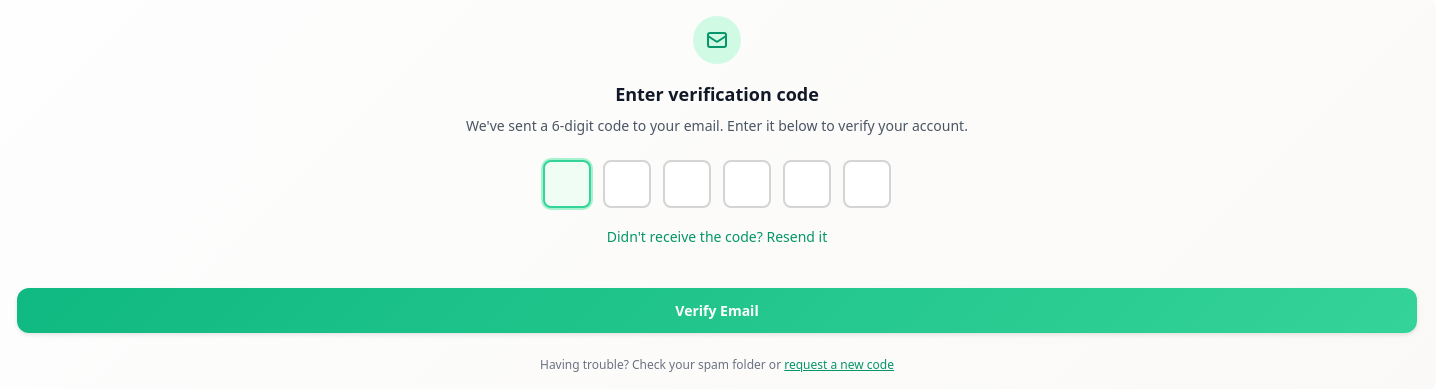
Scenario: EmailVerificationClient › disables inputs and buttons during loading
Note: Enter code to trigger loading
In the field named "Verification code digit 1": (567, 184) [543,160,591,208], type "1"
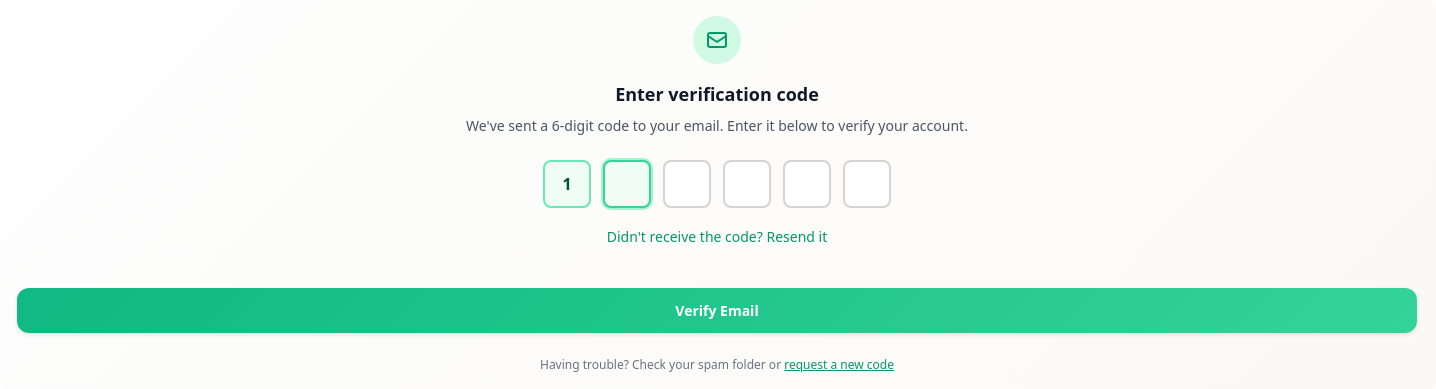
In the field named "Verification code digit 2": (627, 184) [603,160,651,208], type "2"
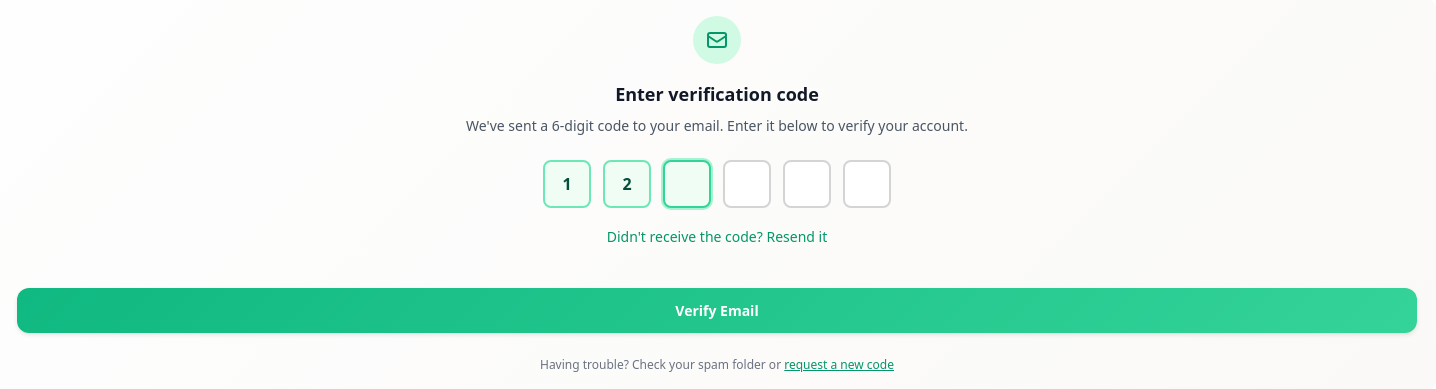
In the field named "Verification code digit 3": (687, 184) [663,160,711,208], type "3"
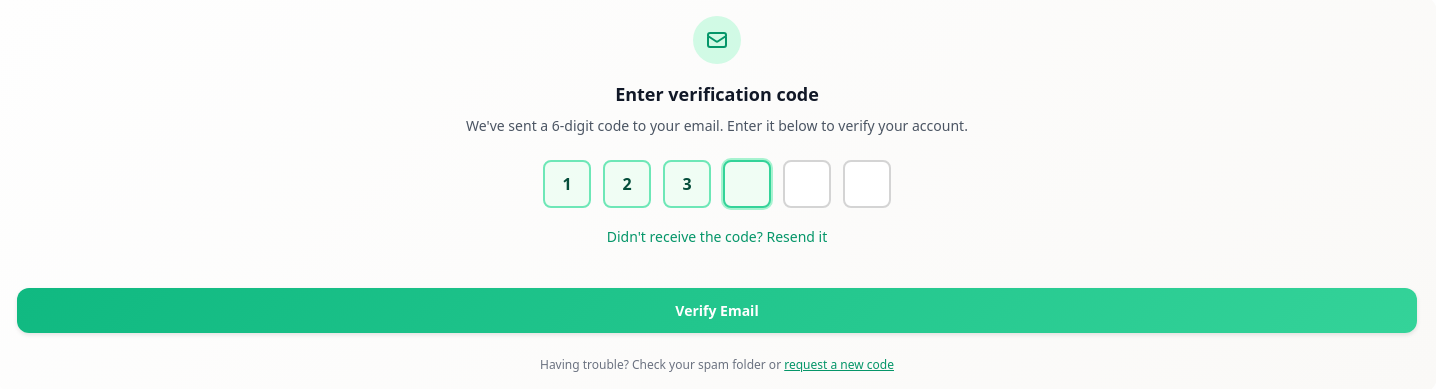
In the field named "Verification code digit 4": (747, 184) [723,160,771,208], type "4"
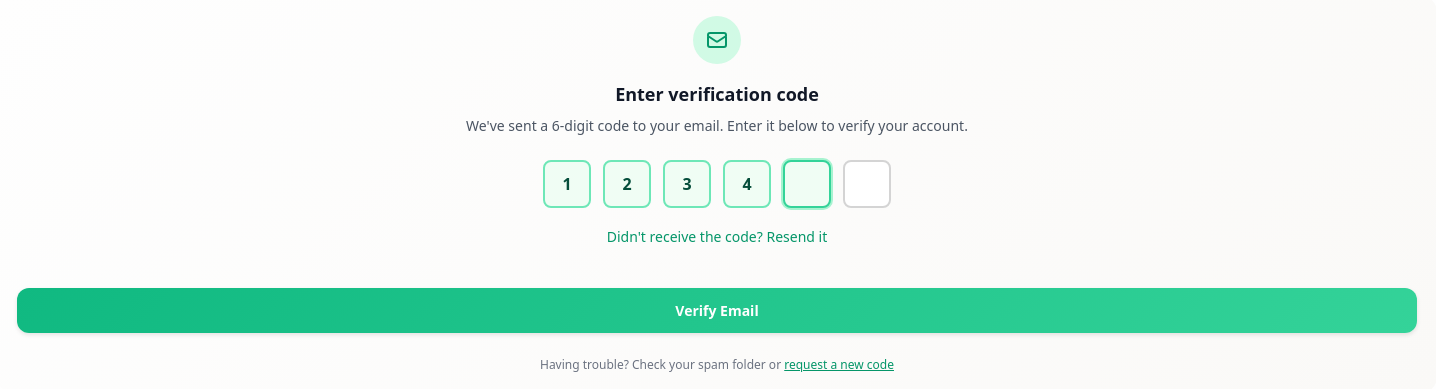
In the field named "Verification code digit 5": (807, 184) [783,160,831,208], type "5"
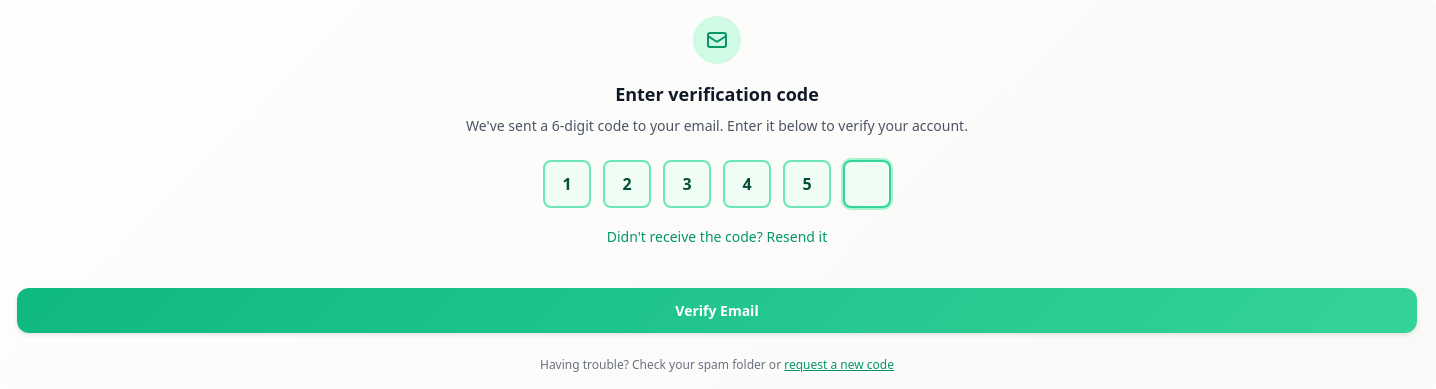
In the field named "Verification code digit 6": (867, 184) [843,160,891,208], type "6"
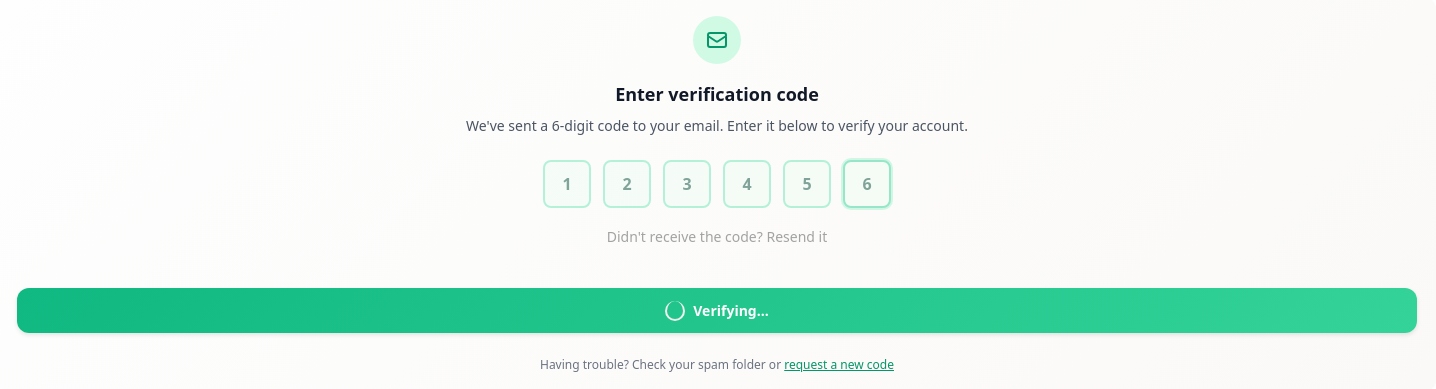
Now the button "Verifying..." is shown, box [17,288,1417,333]
Now the field named "Verification code digit 1" is disabled, box [543,160,591,208]
Now the field named "Verification code digit 2" is disabled, box [603,160,651,208]
